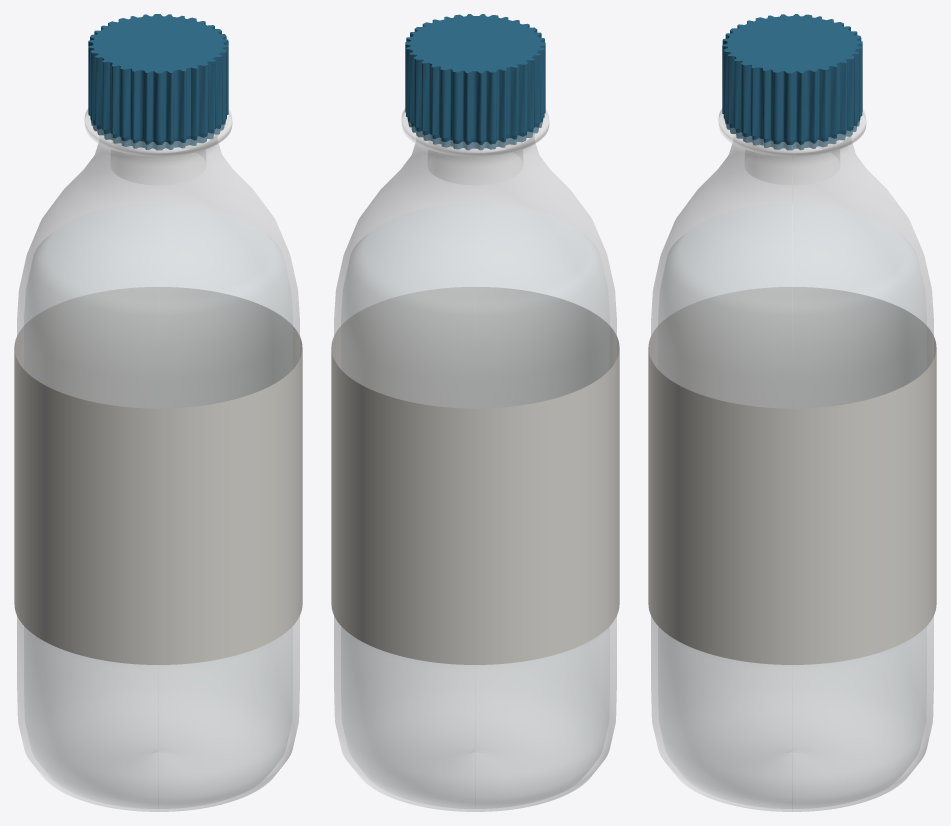
File: pet-bottle-500ml.glb
3 views of the same model, side by side, from view 1: azimuth 30°, elevation 25°; view 2: azimuth 150°, elevation 25°; view 3: azimuth 270°, elevation 25° (orthographic).
Visible parts, largest first — view 1: bottle_body, label_sleeve, water_fill, cap, tamper_ring; view 2: bottle_body, label_sleeve, water_fill, cap, tamper_ring; view 3: bottle_body, label_sleeve, water_fill, cap, tamper_ring.
Boxes of the visible parts, x1,y1,x2,y2 form: bottle_body: (17,109,299,811); label_sleeve: (14,287,302,664); water_fill: (24,203,292,808); cap: (88,14,228,141); tamper_ring: (90,120,226,150); bottle_body: (334,109,616,811); label_sleeve: (331,287,619,664); water_fill: (341,203,609,808); cap: (405,14,545,141); tamper_ring: (407,117,543,150); bottle_body: (651,109,933,811); label_sleeve: (648,287,936,664); water_fill: (658,203,926,808); cap: (722,14,862,141); tamper_ring: (724,116,860,150).
Size of the model in its own units: 0.0672 by 0.187 by 0.0672.
